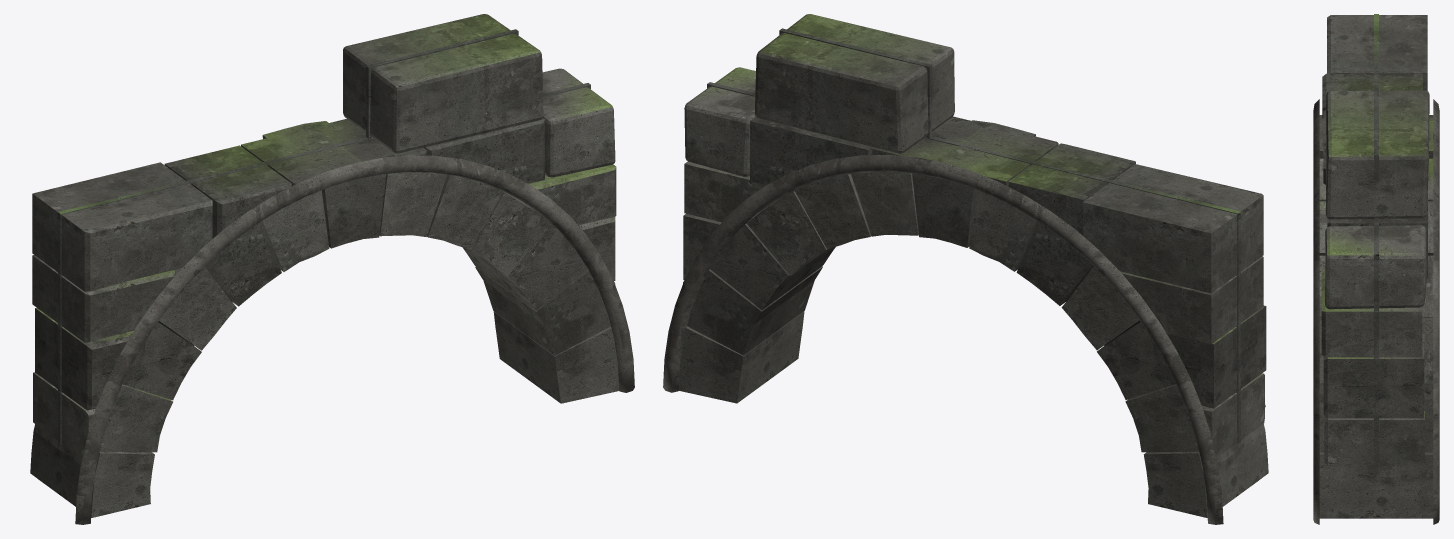
Rendered from ER_Ecoincon_Arc_Ruine_4m4.gltf.
3 renders of one model, left to right at view 1: azimuth 30°, elevation 25°; view 2: azimuth 150°, elevation 25°; view 3: azimuth 270°, elevation 25°, orthographic. The views are drawn at different scales.
Parts seen in each view (by area): view 1: ER_Ecoincon_Arc_Ruine_4m4_P.001, ER_Ecoincon_Arc_Ruine_4m4_MOUL.001, ER_Ecoincon_Arc_Ruine_4m4_PS.001; view 2: ER_Ecoincon_Arc_Ruine_4m4_P.001, ER_Ecoincon_Arc_Ruine_4m4_MOUL.001, ER_Ecoincon_Arc_Ruine_4m4_PS.001; view 3: ER_Ecoincon_Arc_Ruine_4m4_P.001, ER_Ecoincon_Arc_Ruine_4m4_MOUL.001, ER_Ecoincon_Arc_Ruine_4m4_PS.001.
Part boxes in pixels (bbox=[...]): ER_Ecoincon_Arc_Ruine_4m4_P.001: bbox=[30, 14, 619, 517]; ER_Ecoincon_Arc_Ruine_4m4_MOUL.001: bbox=[75, 155, 634, 524]; ER_Ecoincon_Arc_Ruine_4m4_PS.001: bbox=[58, 29, 590, 443]; ER_Ecoincon_Arc_Ruine_4m4_P.001: bbox=[679, 14, 1268, 517]; ER_Ecoincon_Arc_Ruine_4m4_MOUL.001: bbox=[663, 154, 1223, 524]; ER_Ecoincon_Arc_Ruine_4m4_PS.001: bbox=[707, 28, 1240, 443]; ER_Ecoincon_Arc_Ruine_4m4_P.001: bbox=[1319, 15, 1433, 518]; ER_Ecoincon_Arc_Ruine_4m4_MOUL.001: bbox=[1313, 99, 1439, 524]; ER_Ecoincon_Arc_Ruine_4m4_PS.001: bbox=[1374, 14, 1378, 467].
Size of the model in its own units: 4.64 by 2.82 by 0.98.
4 materials, 3 textured.
